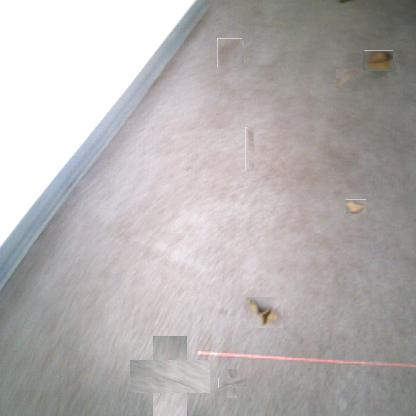dirty: (245, 296, 283, 328), (364, 50, 394, 71), (336, 70, 356, 90), (346, 199, 366, 214)
mark: (141, 348, 199, 404), (216, 39, 243, 66), (245, 126, 254, 170), (223, 374, 242, 393)
